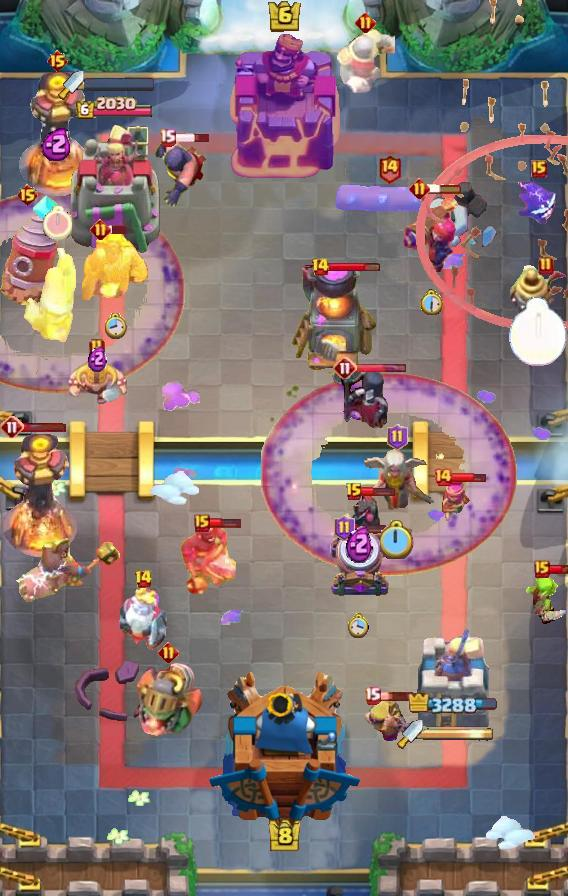arrows: (360, 692, 411, 744)
bar: (67, 122, 161, 256), (414, 623, 492, 731)
battle-ram: (345, 489, 383, 543)
cannon: (440, 479, 472, 523)
electro-dragon: (18, 71, 96, 199), (0, 431, 78, 557)
electro-spirit: (41, 126, 73, 161), (347, 523, 374, 563), (88, 344, 107, 372)
elixir: (508, 297, 568, 367), (380, 521, 414, 560), (44, 206, 73, 240), (419, 289, 443, 316), (104, 312, 127, 339), (348, 612, 370, 638)
emote: (327, 262, 380, 273), (355, 362, 407, 373), (17, 423, 67, 434), (451, 471, 487, 484), (173, 132, 210, 144), (377, 690, 414, 702), (427, 183, 463, 195), (207, 517, 241, 529), (360, 486, 396, 497), (352, 523, 387, 534), (548, 563, 568, 575), (108, 224, 128, 235)
firecracker: (21, 247, 77, 344), (336, 29, 395, 95)
freeze: (15, 534, 121, 604), (179, 523, 245, 599)
goblin-cage: (327, 529, 391, 599)
goblin-drill: (506, 264, 568, 320)
goblin-giant: (66, 358, 128, 406)
goblin-hut: (82, 228, 148, 301)
hunter: (290, 263, 378, 373)
king-tower: (207, 669, 361, 826), (226, 33, 342, 181)
king-tower-bar: (84, 77, 156, 91), (423, 727, 495, 741)
magic-archer: (0, 212, 60, 306)
mega-minion: (401, 194, 461, 274)
minion: (335, 181, 443, 217)
monk: (152, 134, 208, 208)
mortar-evolution: (117, 585, 169, 653)
night-witch: (133, 662, 203, 736)
pad_2: (31, 194, 61, 224)
poison: (353, 444, 441, 518)
rascal-boy: (330, 364, 392, 434)
rocket: (261, 372, 517, 576), (0, 190, 184, 394)
selected: (408, 693, 498, 717), (74, 96, 154, 121)
skeleton-barrel: (414, 0, 568, 332)
spear-goblin: (518, 182, 560, 228)
text: (378, 153, 403, 183), (333, 356, 357, 380), (0, 415, 24, 439), (47, 49, 70, 73), (17, 183, 40, 207), (387, 424, 408, 450), (334, 515, 355, 541), (355, 12, 376, 33), (410, 177, 431, 198), (89, 219, 110, 240), (158, 642, 179, 663), (433, 467, 453, 487), (134, 569, 154, 589), (310, 257, 329, 277), (345, 482, 363, 502), (364, 687, 381, 706), (538, 256, 554, 276), (89, 338, 105, 358), (160, 129, 177, 147), (531, 160, 547, 178), (194, 514, 210, 532), (534, 560, 550, 578)
zap: (524, 573, 568, 628)
